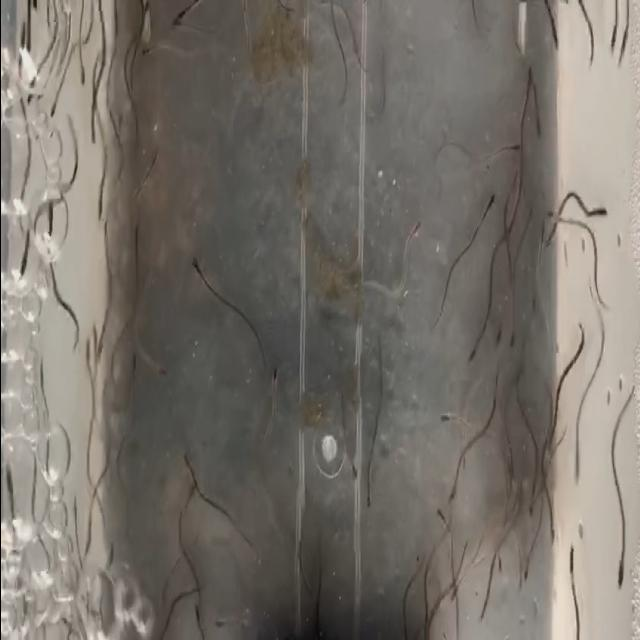active_glass_eel: (605, 548, 631, 596), (106, 86, 126, 146), (615, 22, 629, 104), (13, 233, 31, 289), (149, 337, 171, 382), (430, 388, 452, 432), (518, 58, 536, 108), (489, 309, 507, 359), (177, 454, 206, 485), (530, 102, 546, 156), (182, 228, 200, 276), (0, 462, 16, 516), (12, 12, 29, 62), (544, 180, 562, 227), (364, 475, 378, 535), (523, 489, 545, 527), (542, 220, 556, 278), (48, 93, 66, 135), (500, 320, 522, 354), (33, 350, 47, 400), (266, 347, 278, 405), (475, 597, 491, 640), (41, 202, 60, 238), (592, 192, 612, 226), (404, 204, 424, 238), (342, 458, 361, 493), (568, 457, 590, 487), (100, 535, 115, 578), (544, 520, 564, 550), (90, 186, 108, 219), (550, 8, 560, 66), (78, 337, 94, 373), (434, 492, 444, 548), (518, 558, 534, 592), (124, 218, 142, 248), (125, 342, 142, 373), (83, 517, 94, 563), (606, 21, 618, 61), (184, 574, 203, 598), (484, 180, 500, 208), (448, 574, 462, 606), (146, 144, 162, 172), (86, 120, 100, 152), (95, 209, 111, 237), (507, 128, 520, 160), (464, 344, 478, 372), (137, 2, 151, 30), (22, 86, 36, 110), (141, 34, 152, 64), (450, 480, 459, 516), (495, 556, 505, 588), (189, 606, 205, 626), (80, 55, 88, 93), (62, 118, 74, 142), (89, 322, 101, 344), (36, 85, 46, 106)
